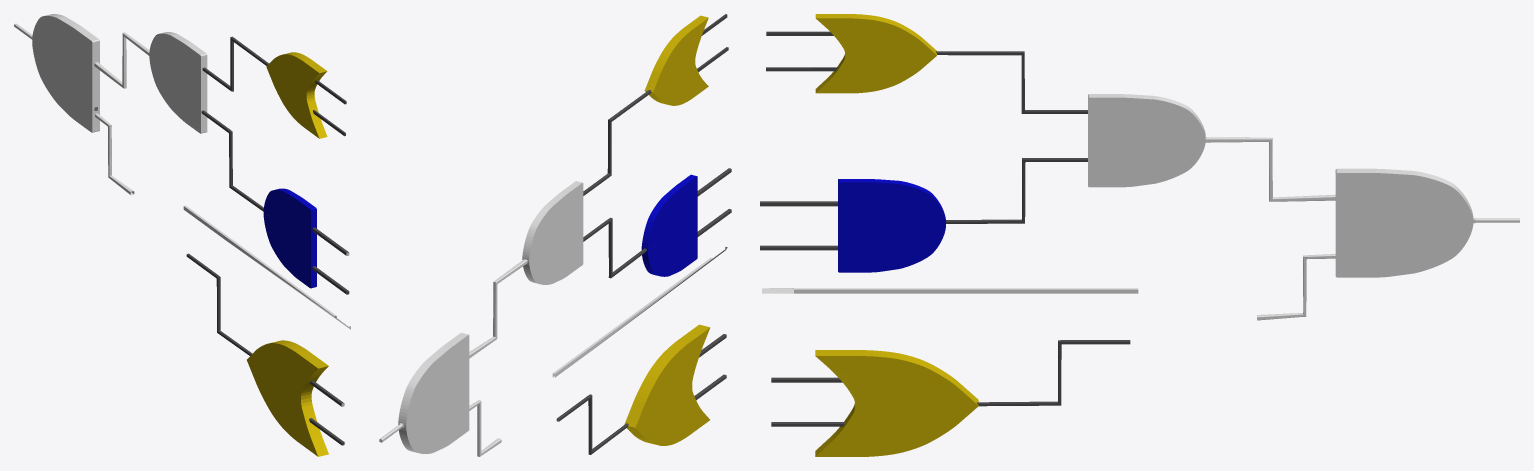
The model's file is combinacaoPortasMaioresDesafio.fbx.
3 views of the same model, side by side, from view 1: azimuth 30°, elevation 25°; view 2: azimuth 150°, elevation 25°; view 3: azimuth 270°, elevation 25° (orthographic). The views are drawn at different scales.
Visible parts, largest first — view 1: Plano.001, Plano.002, PortaESozinha, PortaOuSozinha, Plano.004, Fio, Plano.000, PortaESozinha.001, Plano.005, PortaESozinha.002; view 2: Plano.001, Plano.002, PortaESozinha, PortaOuSozinha, Plano.004, Plano.000, Fio, Plano.005, PortaESozinha.001, PortaESozinha.002; view 3: Plano.001, Plano.002, PortaESozinha, PortaOuSozinha, Plano.004, PortaESozinha.001, Fio, Plano.000, PortaESozinha.002.
Part boxes in pixels (x1,y1,x2,y2): Plano.001: (14,14,350,329); Plano.002: (247,340,328,456); PortaESozinha: (263,188,316,288); PortaOuSozinha: (266,52,346,138); Plano.004: (186,253,252,355); Fio: (202,36,268,91); Plano.000: (201,110,268,215); PortaESozinha.001: (312,227,349,294); Plano.005: (95,113,134,195); PortaESozinha.002: (309,380,344,445); Plano.001: (379,181,727,453); Plano.002: (624,324,710,445); PortaESozinha: (641,174,697,276); PortaOuSozinha: (644,14,728,105); Plano.004: (556,394,628,454); Plano.000: (583,217,646,278); Fio: (583,90,651,195); Plano.005: (469,400,501,456); PortaESozinha.001: (697,168,731,236); PortaESozinha.002: (694,334,726,400); Plano.001: (762,94,1519,293); Plano.002: (815,350,978,456); PortaESozinha: (838,179,945,272); PortaOuSozinha: (766,14,936,93); Plano.004: (976,340,1130,406); PortaESozinha.001: (760,201,837,250); Fio: (935,51,1087,113); Plano.000: (946,158,1087,223); PortaESozinha.002: (771,377,845,426).
Bounding box in the file's own units: 4.1 × 125 × 197.
